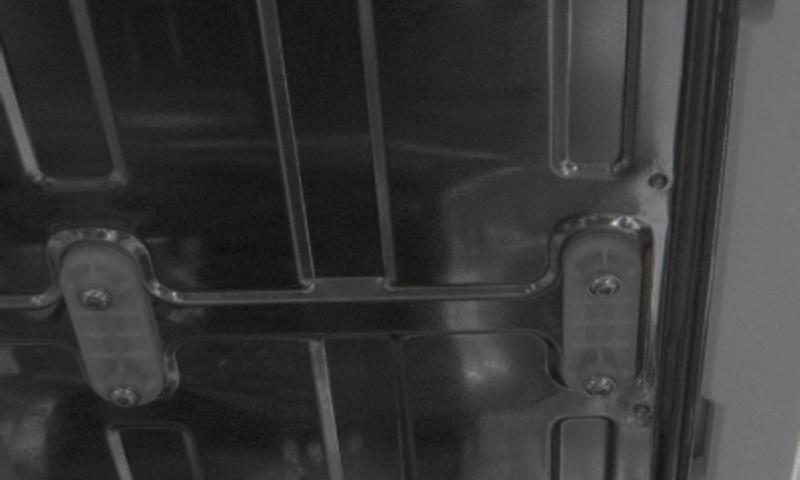vida-ok: (587, 260, 630, 305), (75, 280, 115, 325), (102, 376, 144, 416), (584, 365, 624, 403)
